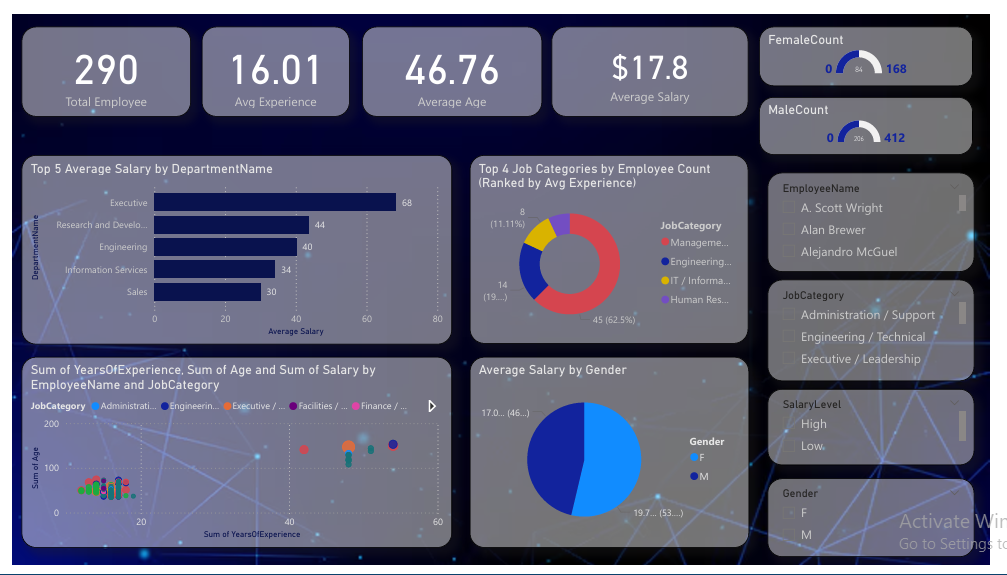

The page's visual inventory and layout, read from the dashboard file:
{"tool":"powerbi","page":{"name":"Page 1","canvas":[1280,720],"ordinal":0},"visuals":[{"type":"card","fields":{"Values":["HR_clean.Total Employee"]},"box":[12,16,222,118],"z":0},{"type":"card","fields":{"Values":["HR_clean.Average Age"]},"box":[458,16,236,118],"z":1000},{"type":"card","fields":{"Values":["HR_clean.Avg Experience"]},"box":[248,16,194,118],"z":2000},{"type":"card","fields":{"Values":["HR_clean.Average Salary"]},"box":[706,16,258,118],"z":3000},{"type":"gauge","fields":{"Y":["HR_clean.MaleCount"]},"box":[978,108,280,76],"z":4000},{"type":"gauge","fields":{"Y":["HR_clean.FemaleCount"]},"box":[978,16,280,78],"z":5000},{"type":"barChart","title":"Top 5 Average Salary by DepartmentName","fields":{"Category":["HR_clean.DepartmentName"],"Y":["HR_clean.Average Salary"]},"box":[12,184,564,248],"z":6000},{"type":"scatterChart","fields":{"X":["HR_clean.YearsOfExperience"],"Y":["HR_clean.Age"],"Size":["HR_clean.Salary"],"Category":["HR_clean.EmployeeName"],"Series":["HR_clean.JobCategory"]},"box":[12,448,564,250],"z":7000},{"type":"slicer","fields":{"Values":["HR_clean.EmployeeName"]},"box":[988.6,207.1,271.4,130],"z":8000},{"type":"slicer","fields":{"Values":["HR_clean.Gender"]},"box":[988.6,607.1,271.4,102.9],"z":9000},{"type":"slicer","fields":{"Values":["HR_clean.JobCategory"]},"box":[988.6,347.1,271.4,132.9],"z":10000},{"type":"slicer","fields":{"Values":["HR_clean.SalaryLevel"]},"box":[988.6,490,271.4,100],"z":11000},{"type":"donutChart","title":"Top 4 Job Categories by Employee Count (Ranked by Avg Experience)\n","fields":{"Category":["HR_clean.JobCategory"],"Y":["HR_clean.EmployeeID"]},"box":[598.6,184.3,365.7,247.1],"z":12000},{"type":"pieChart","fields":{"Category":["HR_clean.Gender"],"Y":["HR_clean.Average Salary"]},"box":[599,448,366,250],"z":13000}]}

Visuals, with their boxes in screenshot pixels (x1, y1, x2, y2), scaled from the page's 1280x720 canvas onto the 1007x575 screenshot:
card - HR_clean.Total Employee: box(9, 13, 184, 107)
card - HR_clean.Average Age: box(360, 13, 546, 107)
card - HR_clean.Avg Experience: box(195, 13, 348, 107)
card - HR_clean.Average Salary: box(555, 13, 758, 107)
gauge - HR_clean.MaleCount: box(769, 86, 990, 147)
gauge - HR_clean.FemaleCount: box(769, 13, 990, 75)
"Top 5 Average Salary by DepartmentName" barChart: box(9, 147, 453, 345)
scatterChart - HR_clean.YearsOfExperience x HR_clean.Age: box(9, 358, 453, 557)
slicer - HR_clean.EmployeeName: box(778, 165, 991, 269)
slicer - HR_clean.Gender: box(778, 485, 991, 567)
slicer - HR_clean.JobCategory: box(778, 277, 991, 383)
slicer - HR_clean.SalaryLevel: box(778, 391, 991, 471)
"Top 4 Job Categories by Employee Count (Ranked by Avg Experience)
" donutChart: box(471, 147, 759, 345)
pieChart - HR_clean.Gender x HR_clean.Average Salary: box(471, 358, 759, 557)
